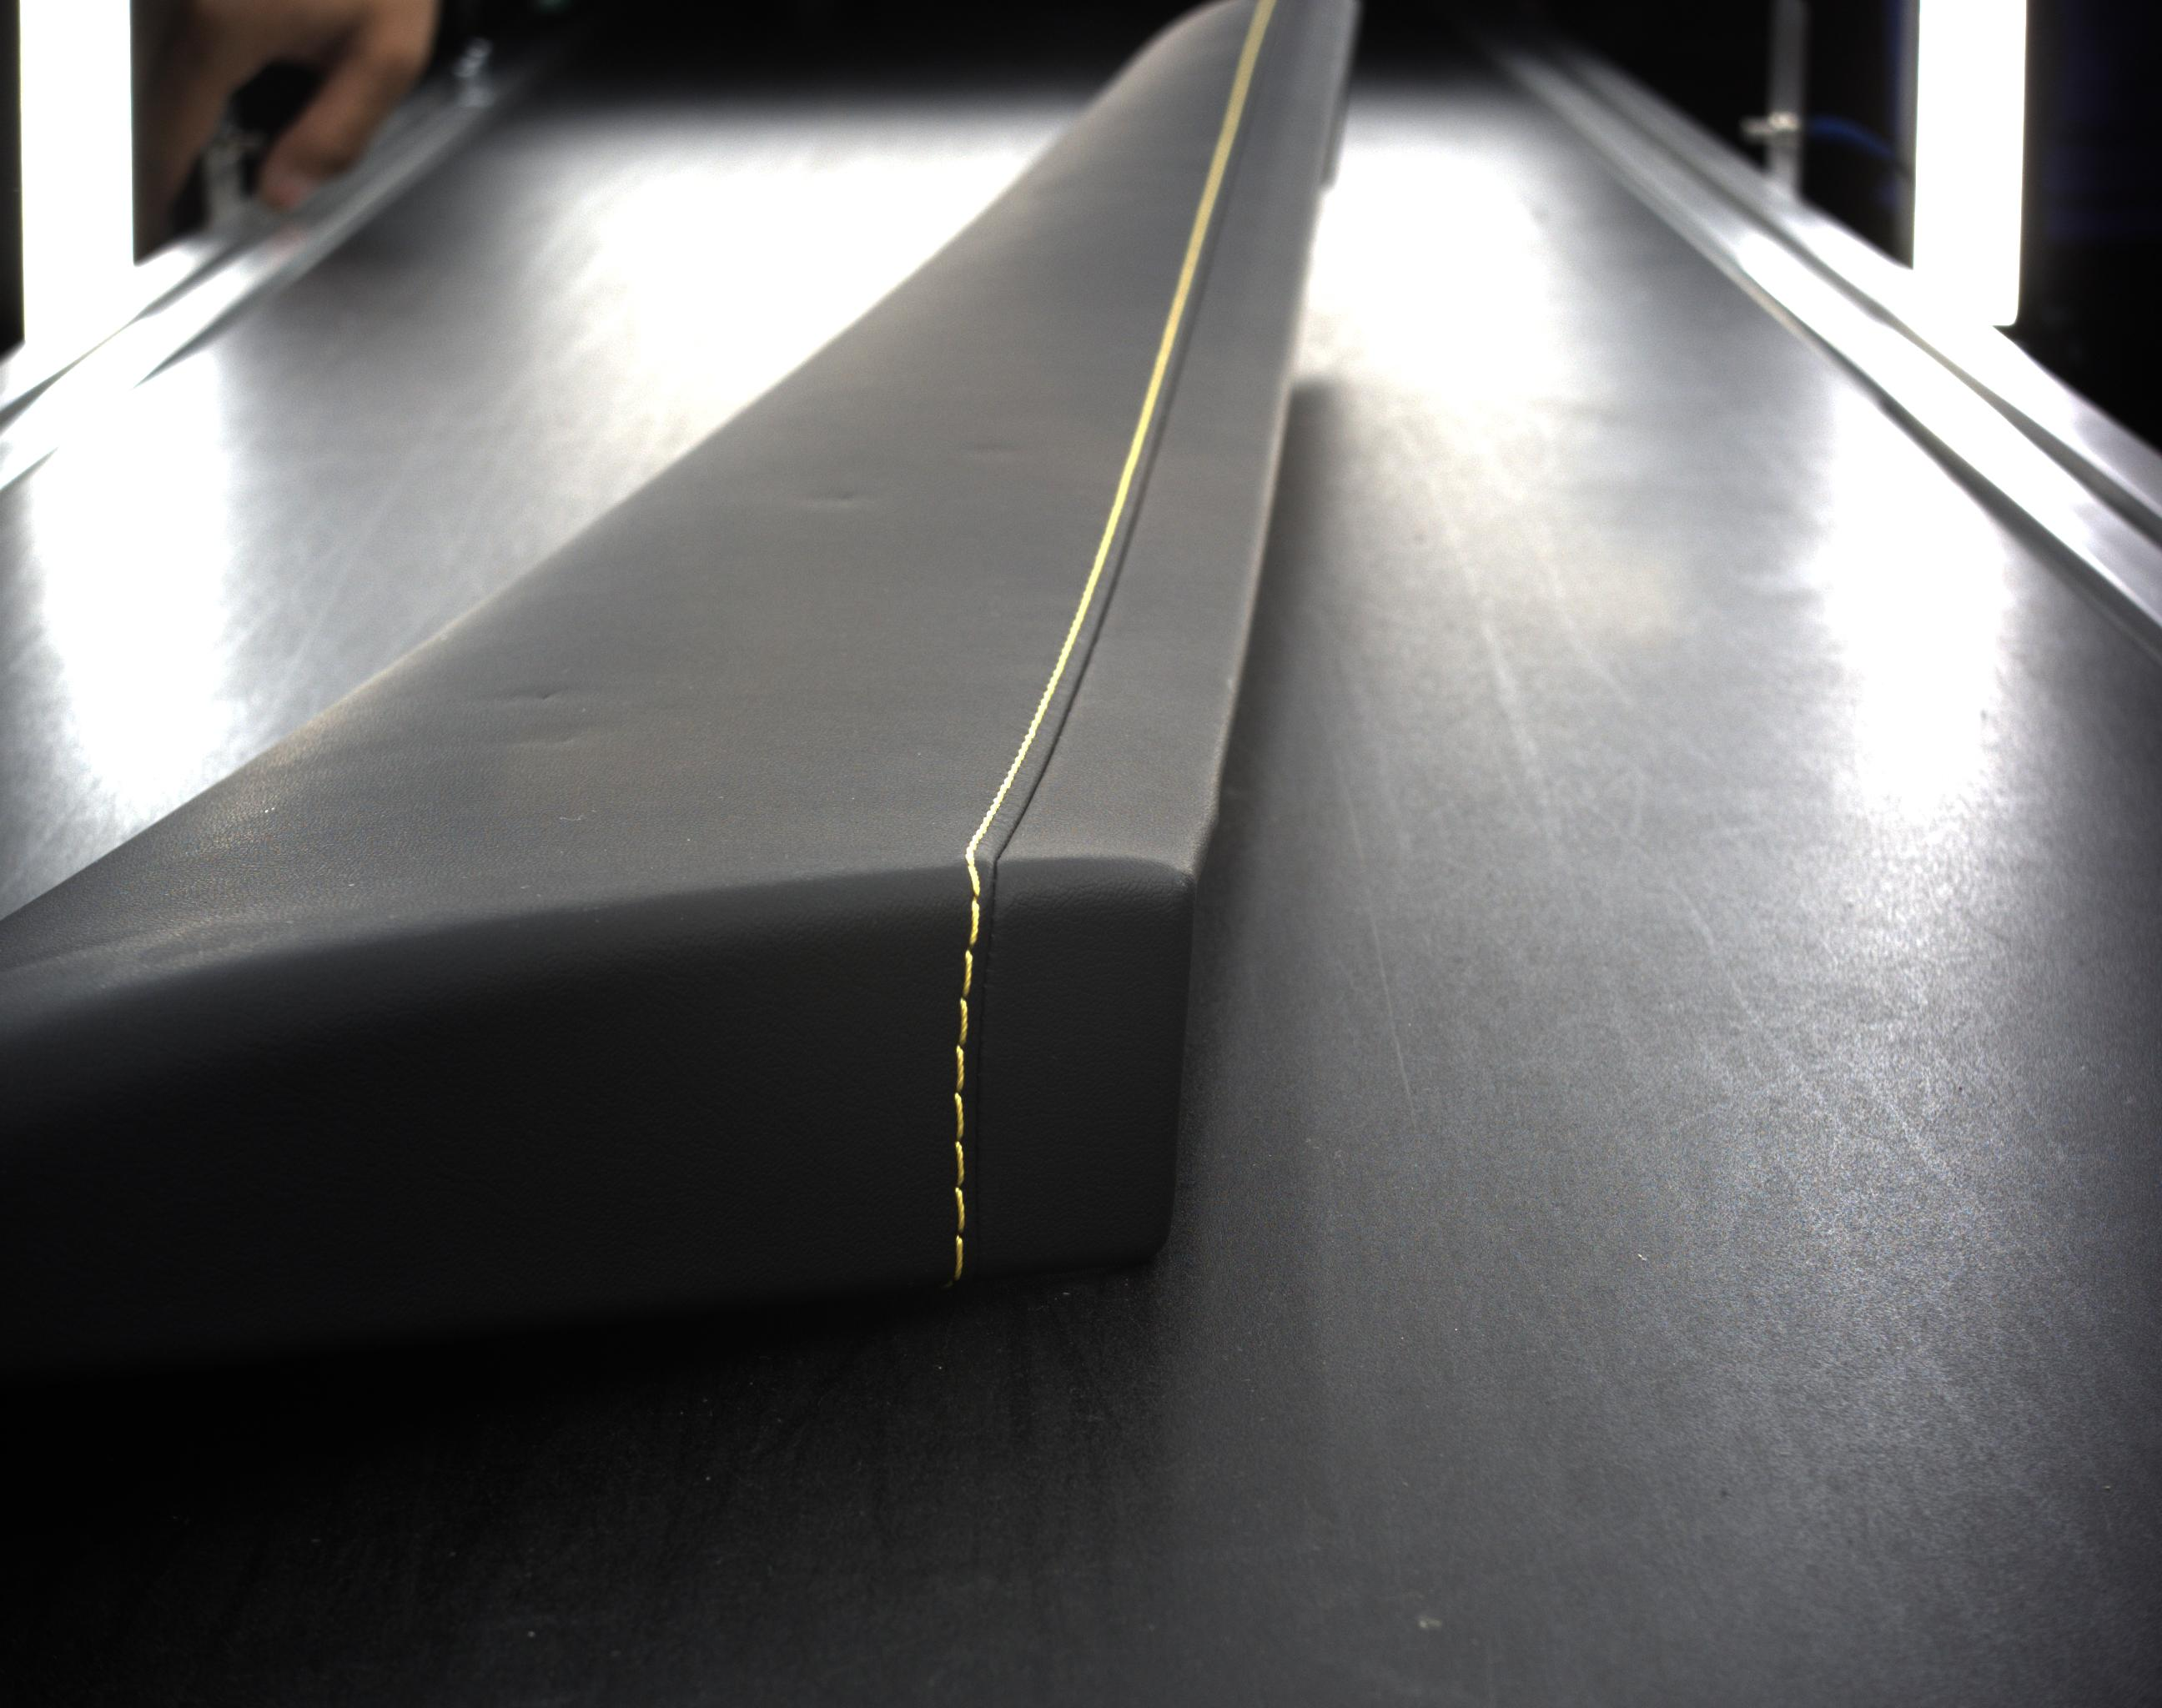vline: (965, 897, 981, 948), (951, 1043, 967, 1092), (960, 950, 976, 997), (951, 1139, 967, 1183), (955, 1001, 970, 1043), (951, 1094, 965, 1139), (951, 1187, 965, 1232), (951, 1238, 967, 1278)
